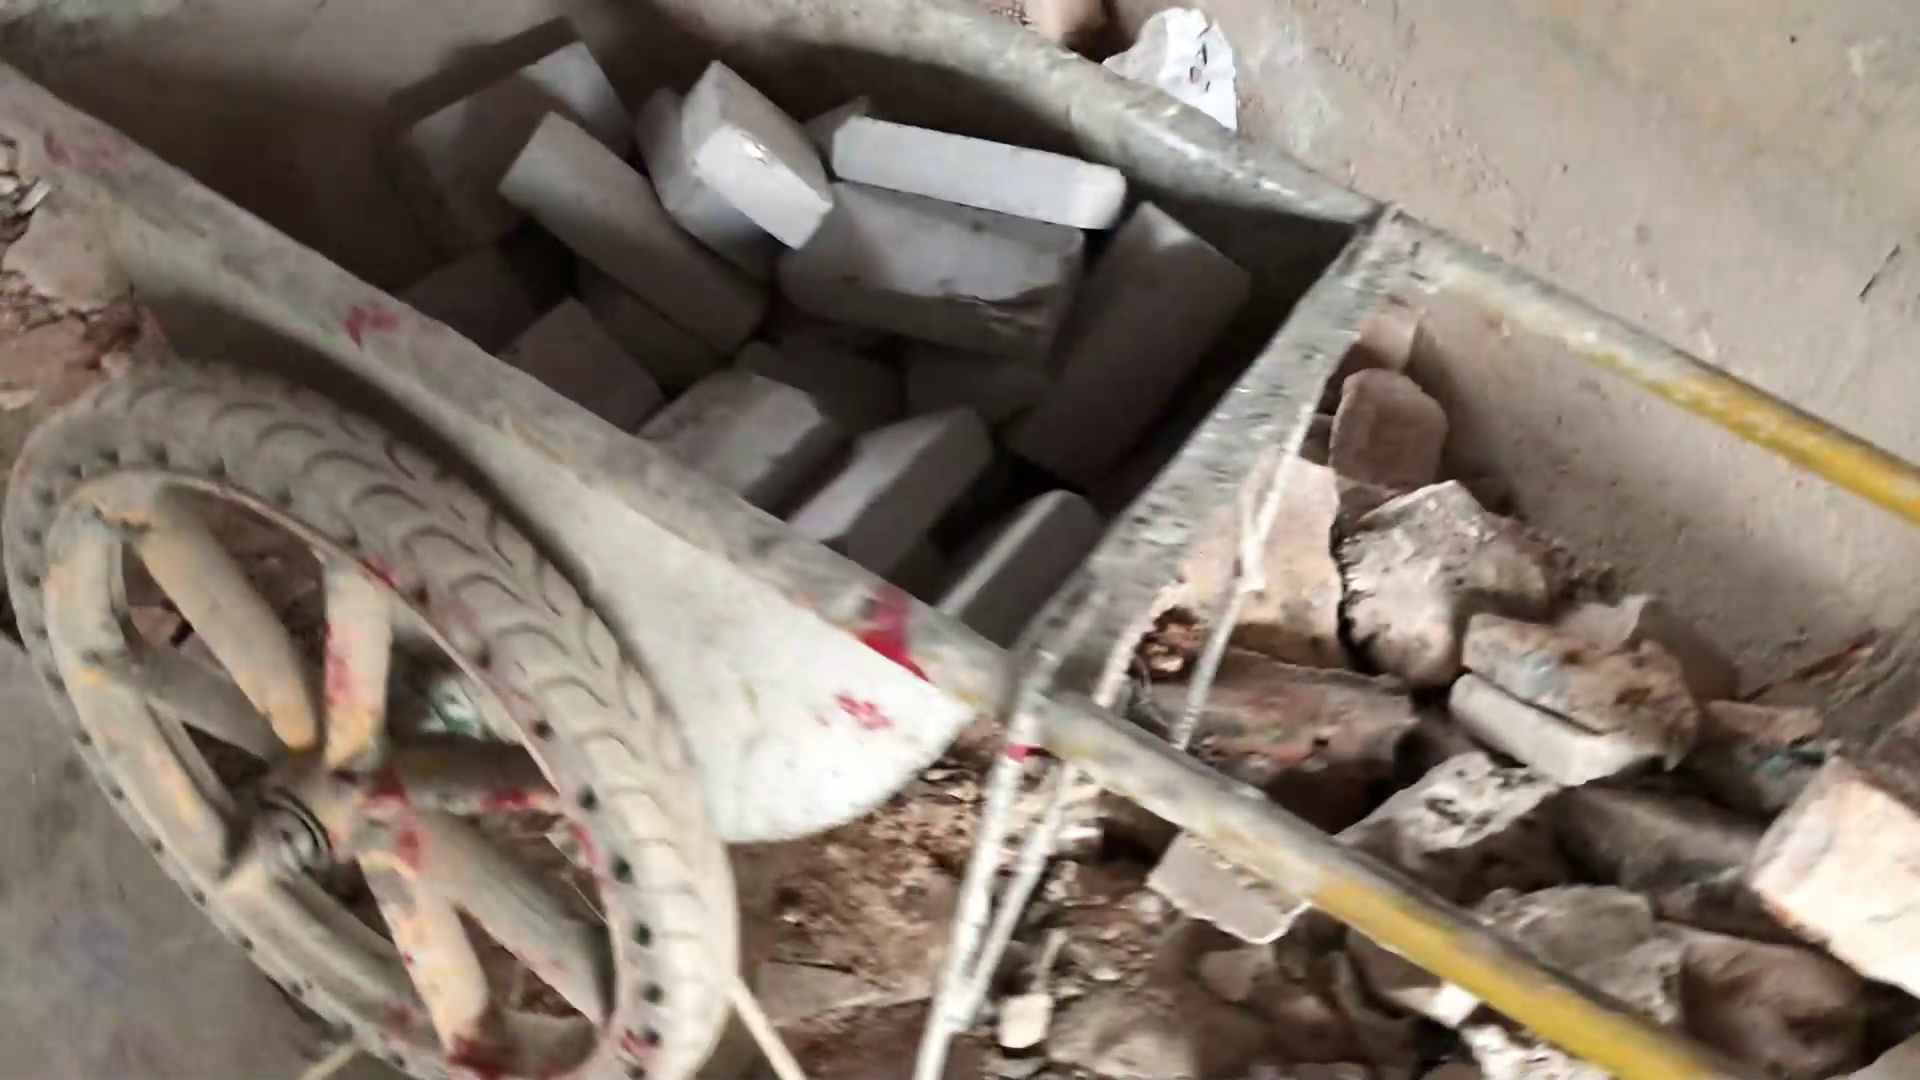handcart: (1, 1, 1729, 1062)
